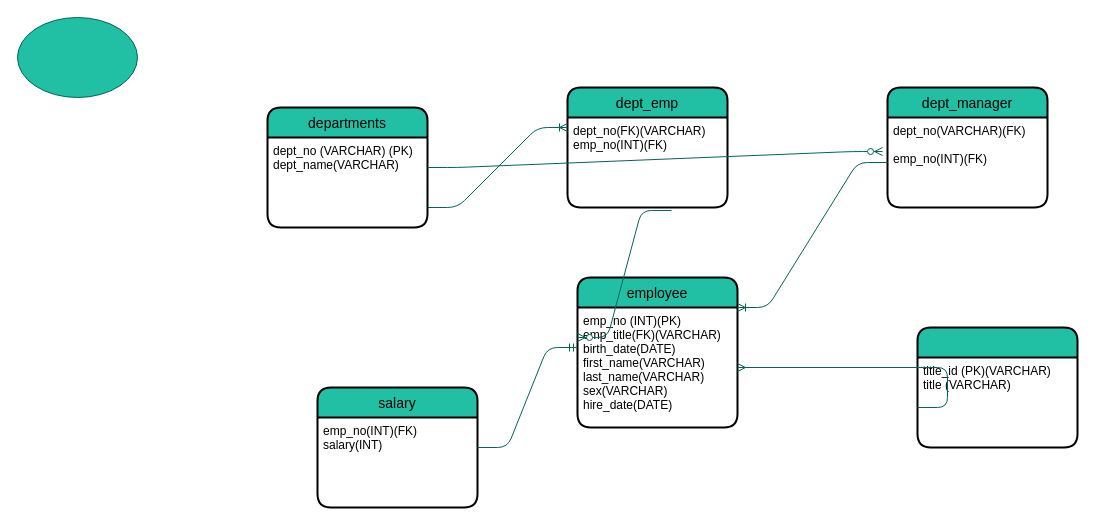
This 1096x526 diagram has some shape labels left out. The shapes that lost their labels are listed below. From the top down, each one's box as (x1, y1, x2, y2) in pixels, then its label:
(16, 16, 138, 98): ERD
(916, 326, 1078, 448): titles
